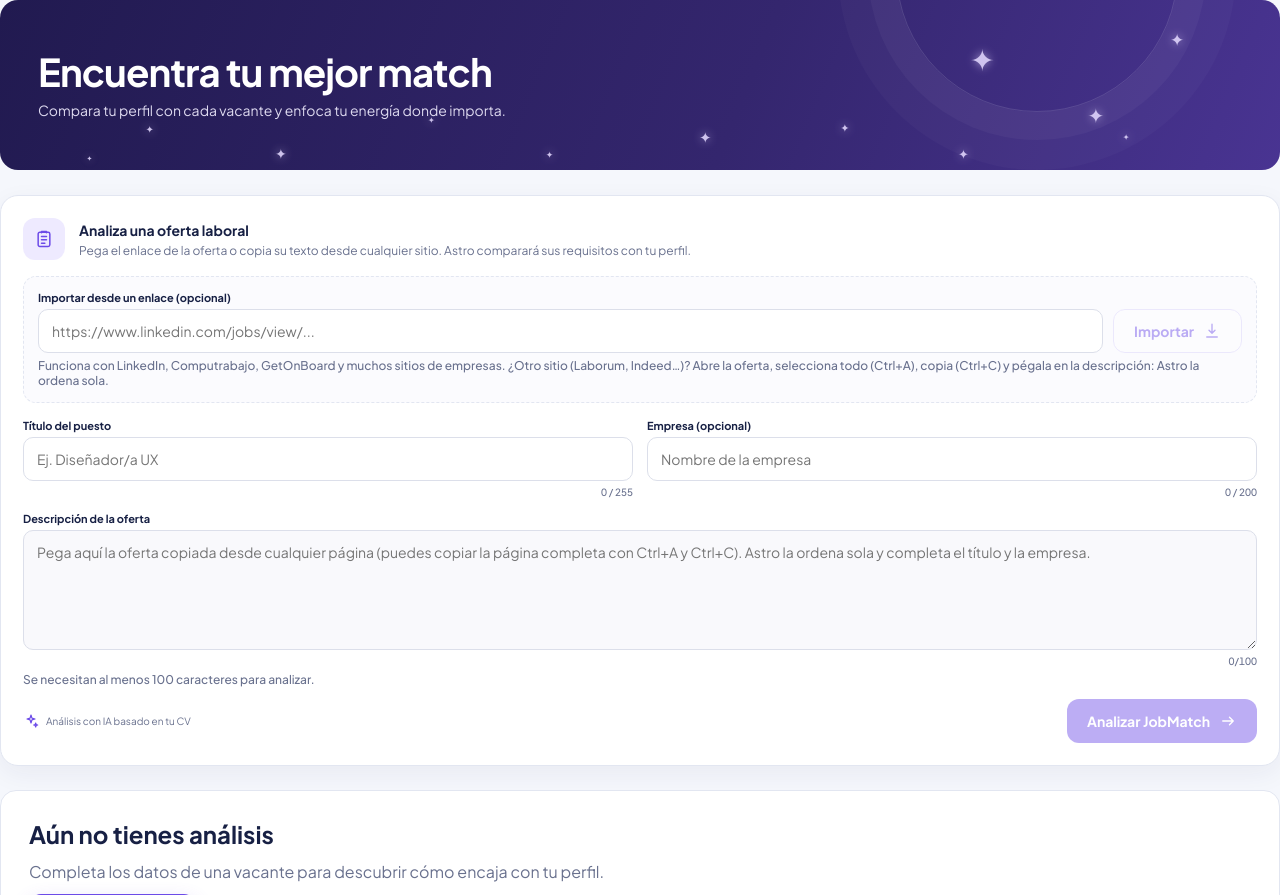
JobMatchModule › imports an offer from a link and fills the form
Expected: the button "Importar" is disabled, [1113,309,1242,353]
Type "https://cl.computrabajo.com/ofertas-de-trabajo/x" into the field named "Enlace de la oferta" at x=571, y=331, box [38,309,1103,353]
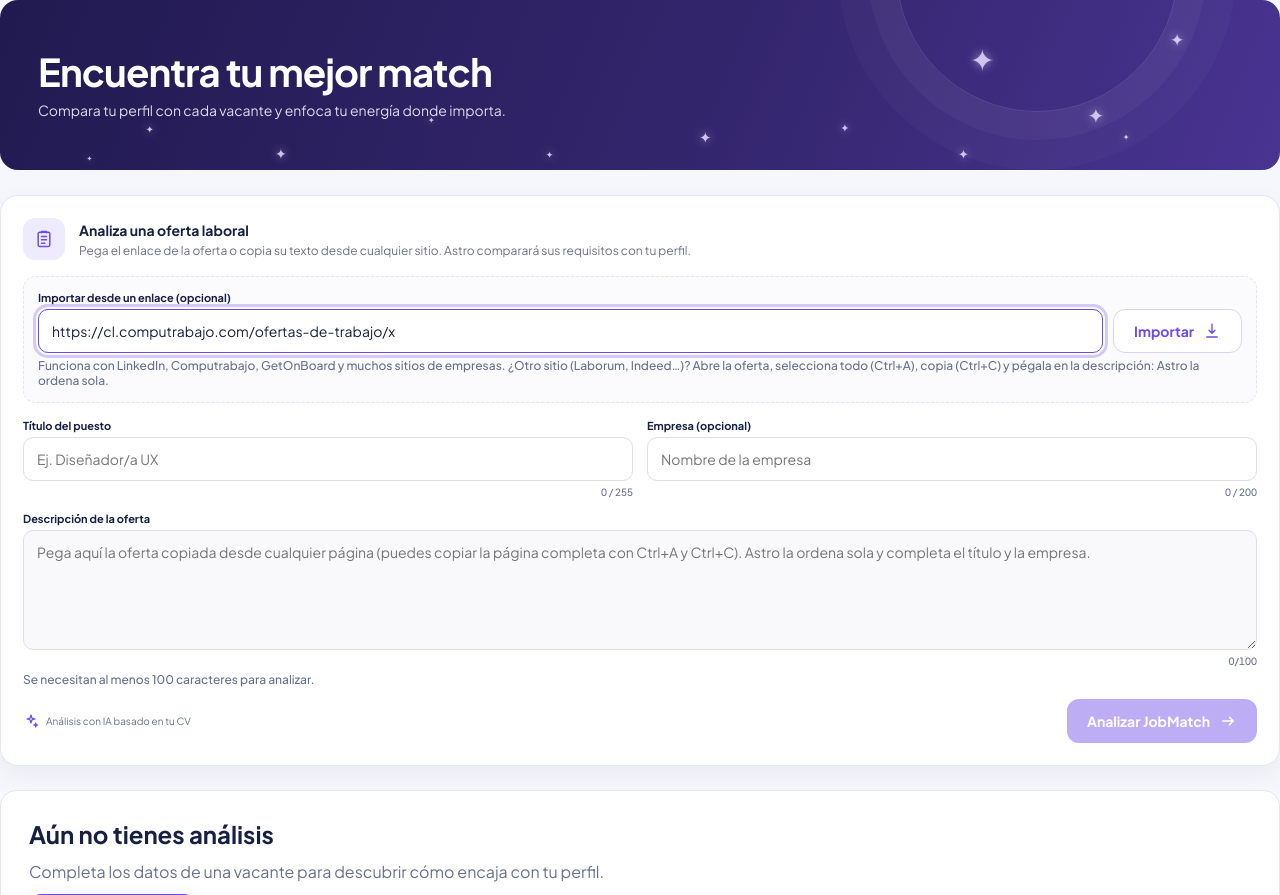
Click the button "Importar" at x=1178, y=331, box [1113,309,1242,353]
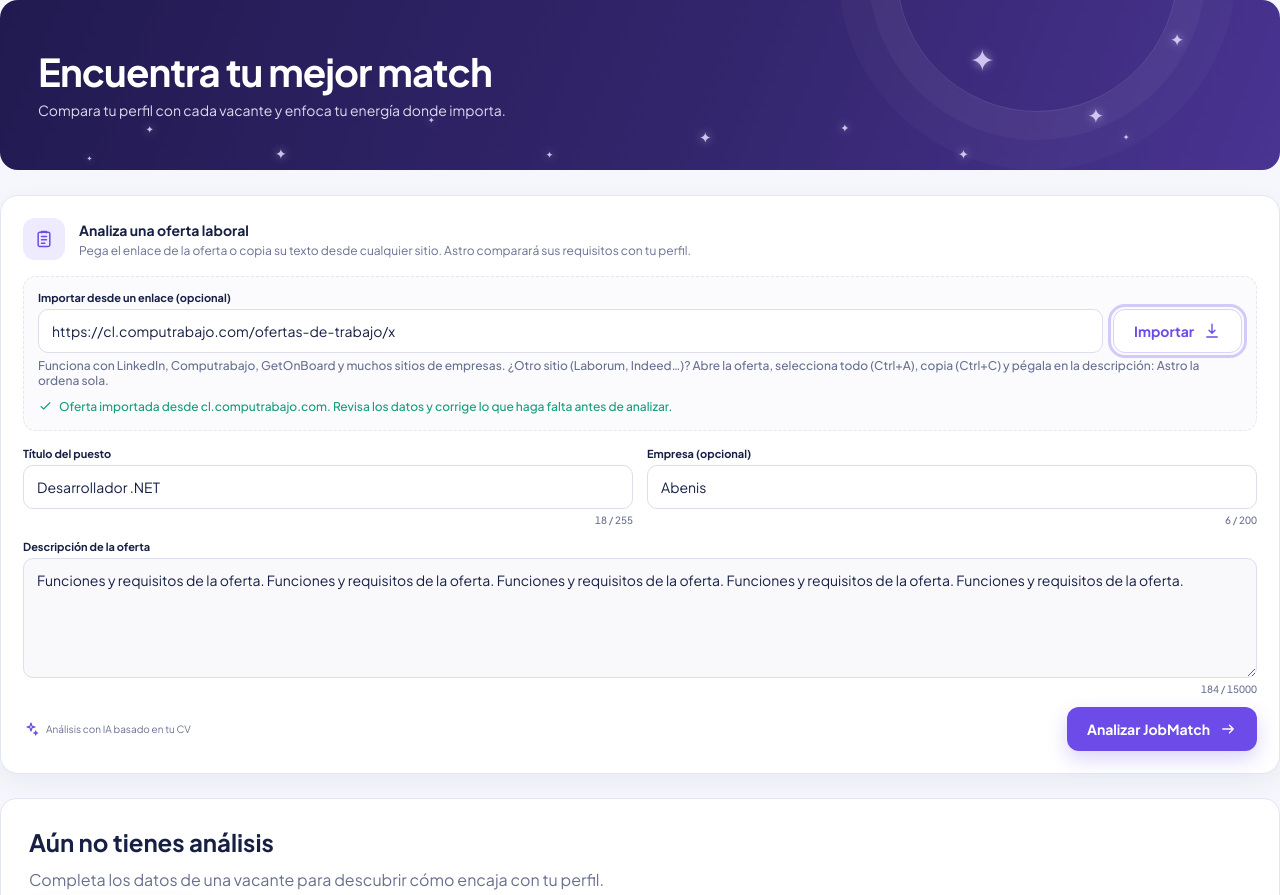
Result: the field labelled "Título del puesto" holds "Desarrollador .NET" at [23,465,633,509]
Result: the field labelled "Empresa" holds "Abenis" at [647,465,1257,509]
Result: the text "Oferta importada desde cl.computrabajo.com" is shown at [59,399,672,414]
